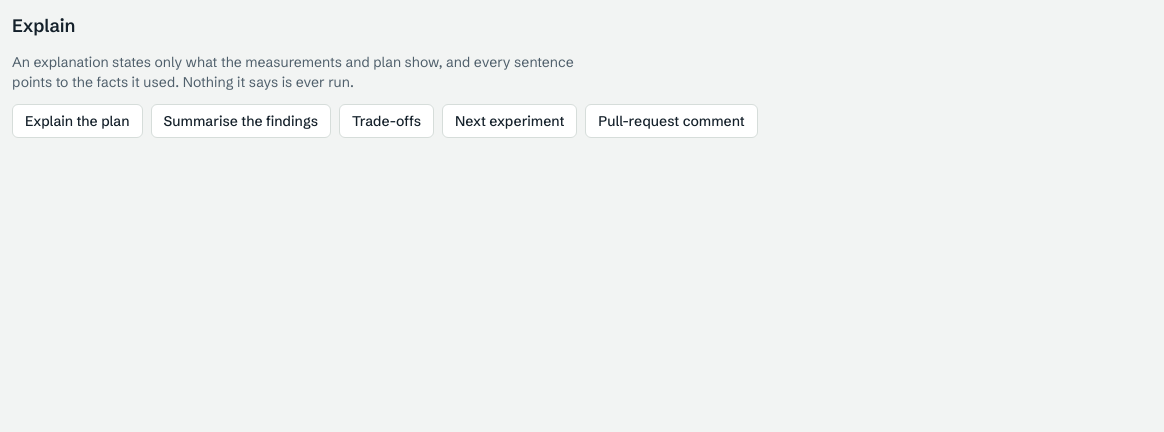
Scenario: ExplainPanel › says what was left out and why when a draft was filtered or fell back
The width and height of the screenshot is (1164, 432).
Click the button "Explain the plan" at (77, 121), box [12,104,142,138]
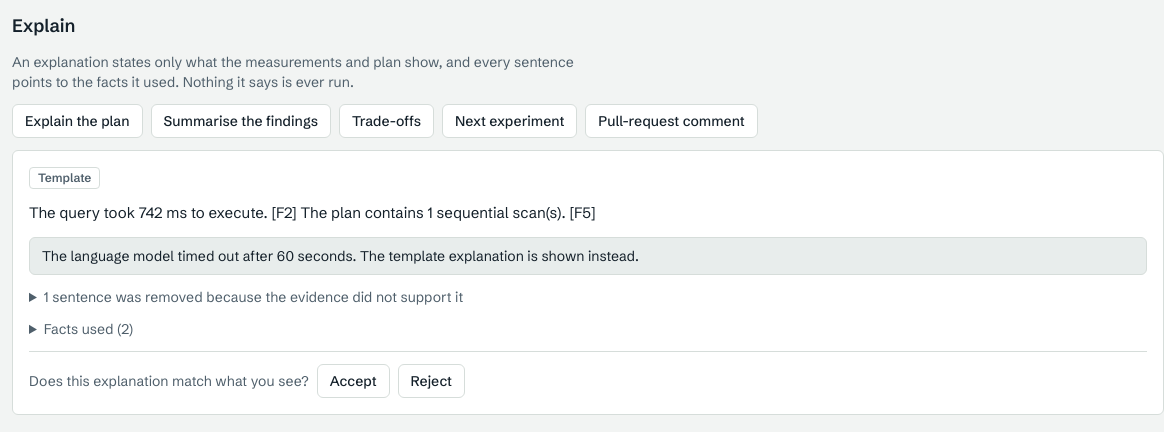
Now the text "timed out after 60 seconds" is shown, box [42,247,639,265]
Now the heading "1 sentence was removed" is shown, box [44,288,463,306]
